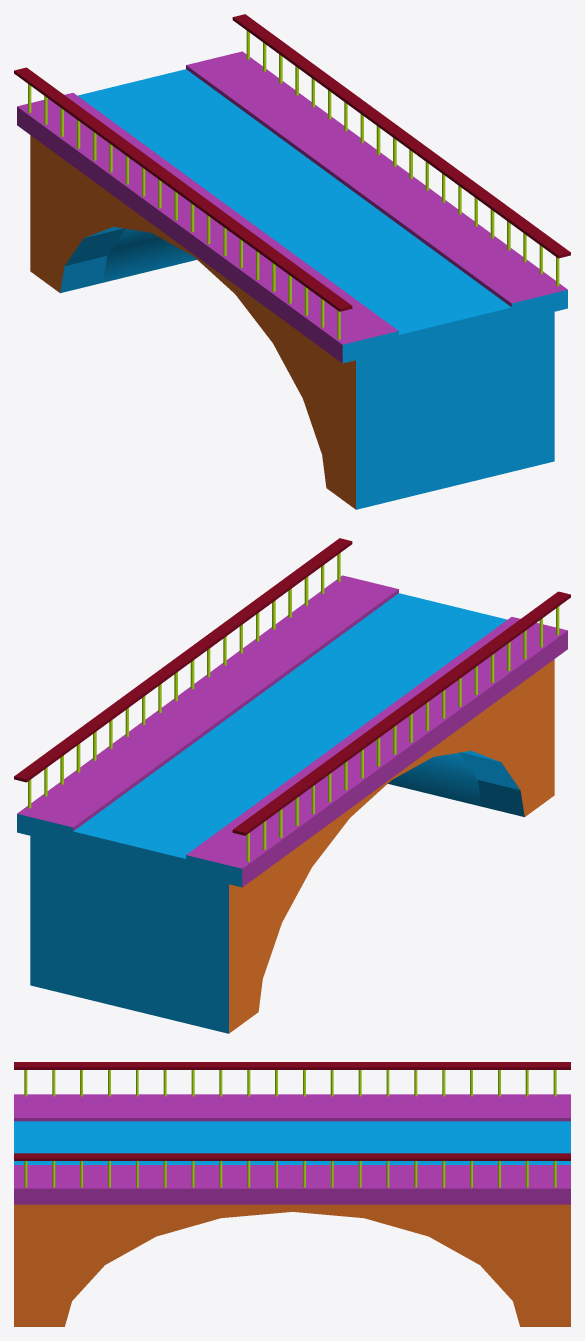
File: Bridge material.fbx
The picture shows the model from 3 angles, top to bottom: view 1: azimuth 30°, elevation 25°; view 2: azimuth 150°, elevation 25°; view 3: azimuth 270°, elevation 25°; orthographic projection. The views are drawn at different scales.
Parts seen in each view (by area): view 1: polySurface1, pCube10; view 2: polySurface1, pCube10; view 3: polySurface1, pCube10.
Part boxes in pixels (<box>): polySurface1: <box>17,51,567,509</box>; pCube10: <box>14,14,570,311</box>; polySurface1: <box>17,575,567,1033</box>; pCube10: <box>14,538,570,835</box>; polySurface1: <box>14,1094,570,1326</box>; pCube10: <box>14,1062,570,1160</box>.
Size of the model in its own units: 8.2 by 6.94 by 20.
Materials: 1 (1 with a texture image).
